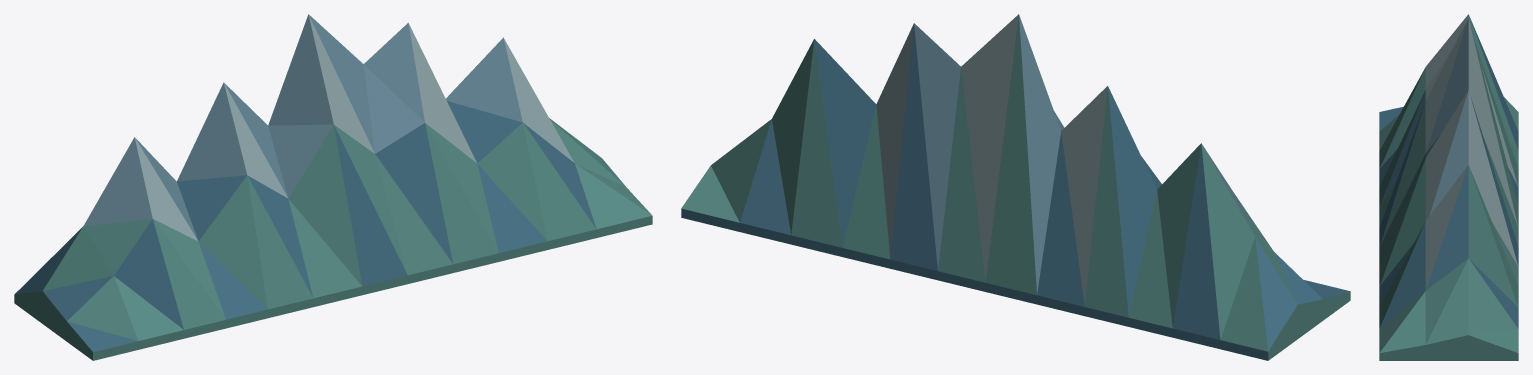
The model's file is mountain.glb.
The picture shows the model from 3 angles, left to right: view 1: azimuth 30°, elevation 25°; view 2: azimuth 150°, elevation 25°; view 3: azimuth 270°, elevation 25°; orthographic projection. The views are drawn at different scales.
Visible parts, largest first — view 1: SeoraksanFacetedVolume; view 2: SeoraksanFacetedVolume; view 3: SeoraksanFacetedVolume.
Boxes of the visible parts, bbox=[...] form: SeoraksanFacetedVolume: bbox=[14, 14, 652, 360]; SeoraksanFacetedVolume: bbox=[681, 14, 1350, 360]; SeoraksanFacetedVolume: bbox=[1379, 14, 1518, 360].
Size of the model in its own units: 8 by 3.35 by 1.95.
